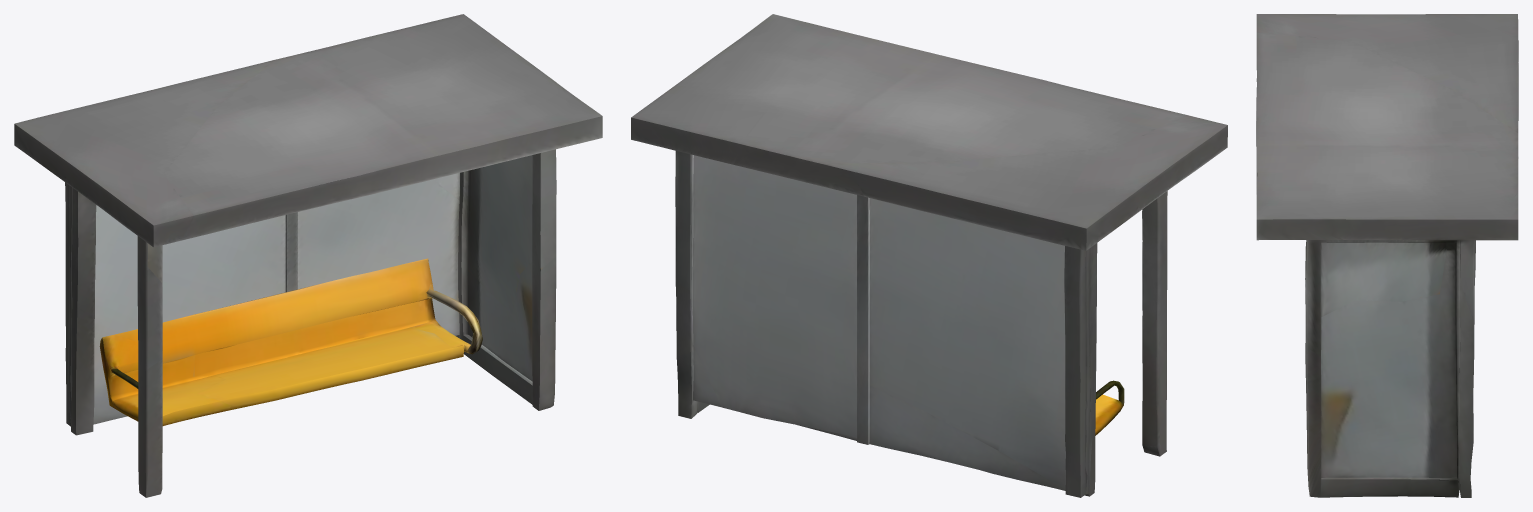
The model's file is busStop.glb.
3 renders of one model, left to right at view 1: azimuth 30°, elevation 25°; view 2: azimuth 150°, elevation 25°; view 3: azimuth 270°, elevation 25°, orthographic. The views are drawn at different scales.
Parts seen in each view (by area): view 1: model; view 2: model; view 3: model.
Part boxes in pixels (left/top/right/bottom): model: left=14, top=14, right=602, bottom=497; model: left=631, top=14, right=1227, bottom=497; model: left=1256, top=14, right=1518, bottom=497.
Size of the model in its own units: 1.9 by 1.24 by 1.02.
Materials: 1 (1 with a texture image).
